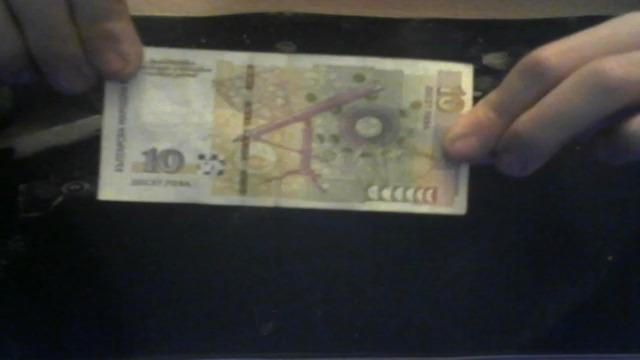10leva: (95, 47, 477, 217)
